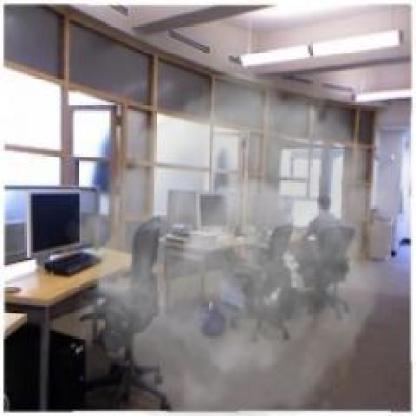Smoke: (64, 75, 406, 414)
